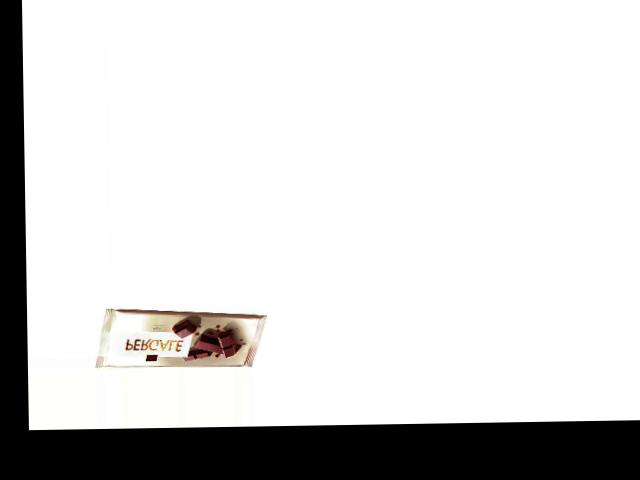chocolate: (92, 308, 271, 368)
